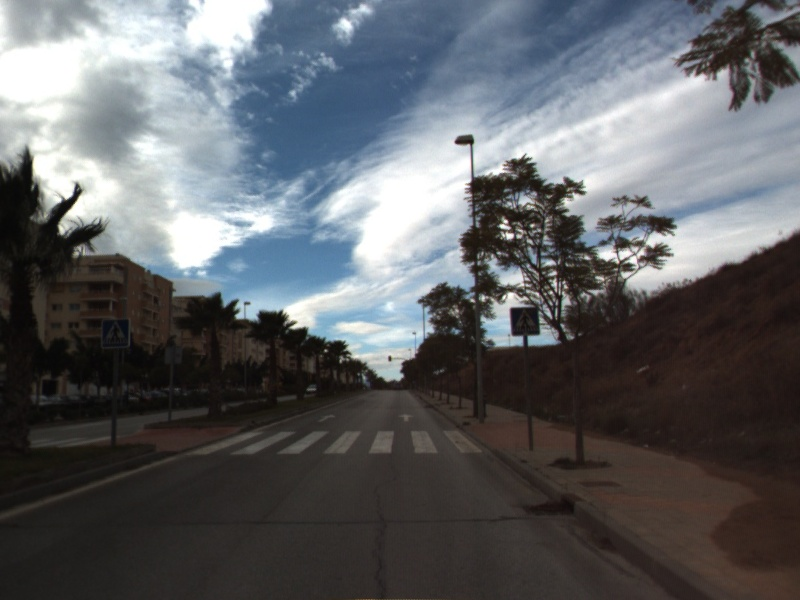STRAIGHT: (316, 412, 338, 424), (397, 411, 416, 424)
